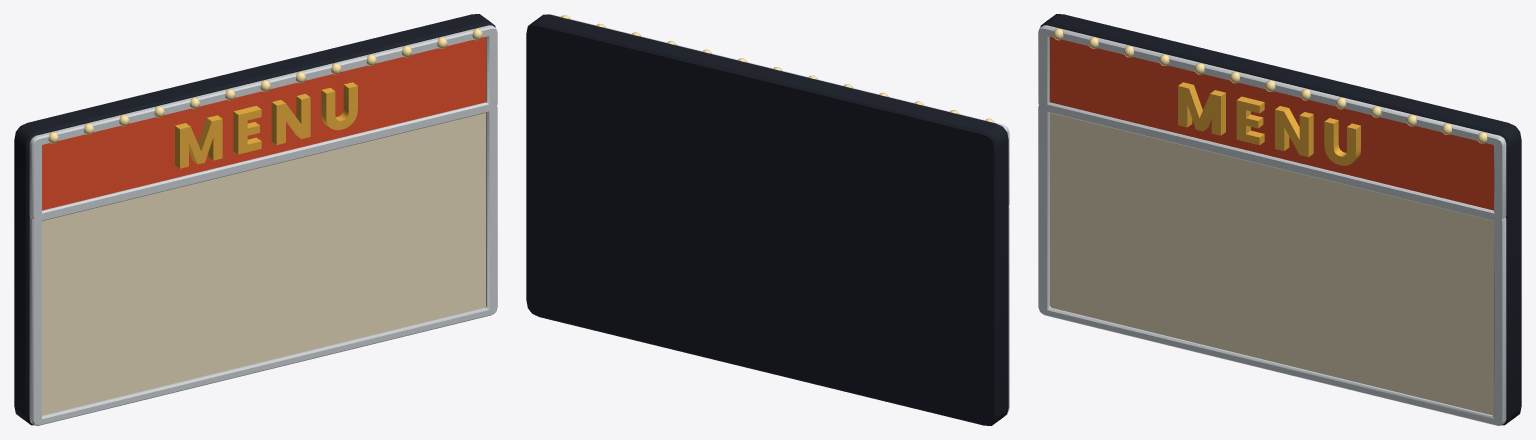
File: Shop_MenuBoard.fbx
3 renders of one model, left to right at view 1: azimuth 30°, elevation 25°; view 2: azimuth 150°, elevation 25°; view 3: azimuth 330°, elevation 25°, orthographic.
Parts seen in each view (by area): view 1: Panel, Header, Frame, Body, Letters, Bulbs; view 2: Body, Frame; view 3: Panel, Header, Frame, Body, Letters, Bulbs.
Boxes of the visible parts, x1,y1,x2,y2 form: Panel: (42,113,485,415); Header: (42,37,486,210); Frame: (29,25,497,425); Body: (14,14,495,425); Letters: (175,82,357,168); Bulbs: (48,28,482,143); Body: (526,14,1008,425); Frame: (546,14,1009,411); Panel: (1050,113,1493,415); Header: (1049,36,1493,210); Frame: (1038,25,1506,425); Body: (1040,14,1521,425); Letters: (1178,82,1360,165); Bulbs: (1053,28,1487,143).
Bounding box in the file's own units: 900 × 537 × 66.56.
